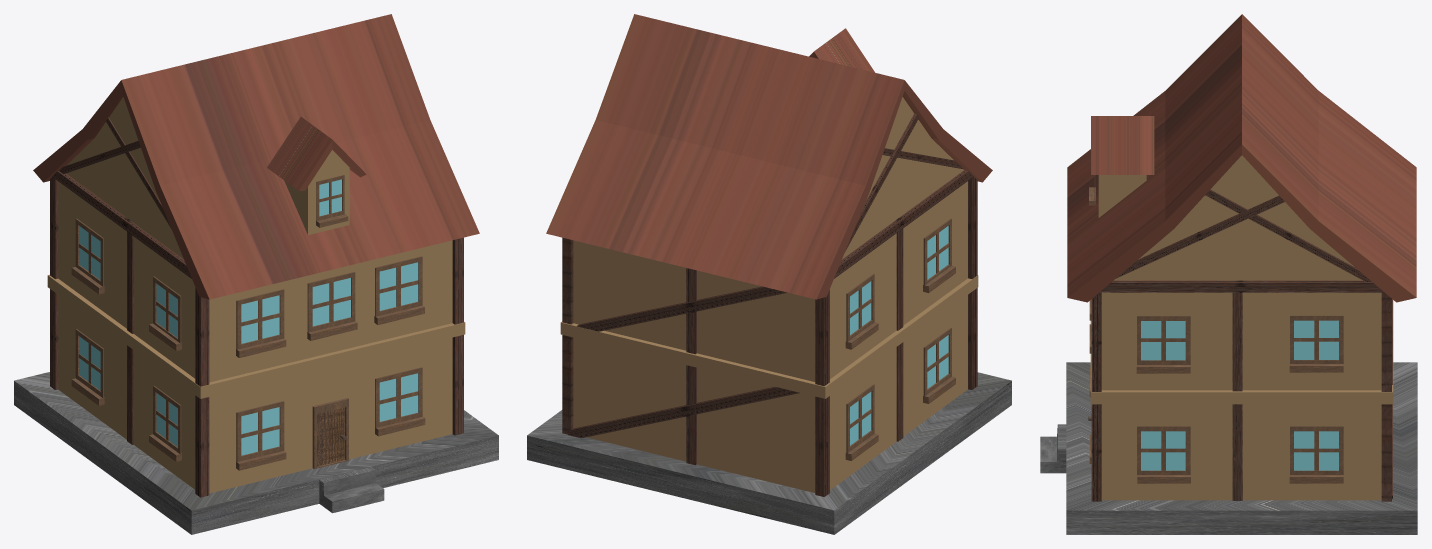
File: House3.fbx
3 renders of one model, left to right at view 1: azimuth 30°, elevation 25°; view 2: azimuth 150°, elevation 25°; view 3: azimuth 270°, elevation 25°, orthographic.
Visible parts, largest first — view 1: Cube, Cube.001, Cube.003, Cube.005, Cube.004, Cube.014, Cube.006, Cube.039, Plane, Cube.020, Plane.006, Cube.010 (+25 smaller); view 2: Cube, Cube.001, Cube.024, Cube.023, Cube.014, Cube.022, Cube.020, Cube.009, Cube.013, Cube.003, Cube.008, Cube.012 (+11 smaller); view 3: Cube, Cube.001, Cube.003, Cube.015, Cube.021, Plane.017, Plane.019, Plane.025, Plane.027, Cube.019, Cube.018, Plane.018 (+13 smaller).
Boxes of the visible parts, left/top/right/bottom form: Cube: left=14, top=97, right=498, bottom=534; Cube.001: left=33, top=14, right=479, bottom=299; Cube.003: left=267, top=117, right=366, bottom=190; Cube.005: left=319, top=467, right=384, bottom=513; Cube.004: left=284, top=150, right=349, bottom=234; Cube.014: left=52, top=171, right=191, bottom=278; Cube.006: left=195, top=395, right=209, bottom=497; Cube.039: left=317, top=407, right=344, bottom=466; Plane: left=236, top=401, right=284, bottom=461; Cube.020: left=127, top=232, right=133, bottom=444; Plane.006: left=236, top=289, right=284, bottom=349; Cube.010: left=195, top=287, right=209, bottom=386; Cube: left=527, top=97, right=1011, bottom=534; Cube.001: left=546, top=14, right=992, bottom=299; Cube.024: left=566, top=386, right=799, bottom=438; Cube.023: left=577, top=286, right=787, bottom=331; Cube.014: left=834, top=170, right=972, bottom=278; Cube.022: left=686, top=268, right=696, bottom=465; Cube.020: left=896, top=228, right=903, bottom=441; Cube.009: left=815, top=396, right=829, bottom=496; Cube.013: left=815, top=290, right=829, bottom=386; Cube.003: left=809, top=28, right=874, bottom=72; Cube.008: left=562, top=335, right=573, bottom=434; Cube.012: left=562, top=237, right=573, bottom=324; Cube: left=1066, top=155, right=1417, bottom=534; Cube.001: left=1067, top=14, right=1416, bottom=302; Cube.003: left=1091, top=116, right=1154, bottom=174; Cube.015: left=1099, top=280, right=1384, bottom=292; Cube.021: left=1232, top=292, right=1242, bottom=500; Plane.017: left=1294, top=431, right=1338, bottom=470; Plane.019: left=1141, top=431, right=1185, bottom=470; Plane.025: left=1141, top=321, right=1185, bottom=360; Plane.027: left=1294, top=320, right=1338, bottom=359; Cube.019: left=1116, top=195, right=1284, bottom=278; Cube.018: left=1205, top=189, right=1371, bottom=281; Plane.018: left=1137, top=426, right=1190, bottom=474.
Bounding box in the file's own units: 964 × 1155 × 1035.
8 materials, 5 textured.
